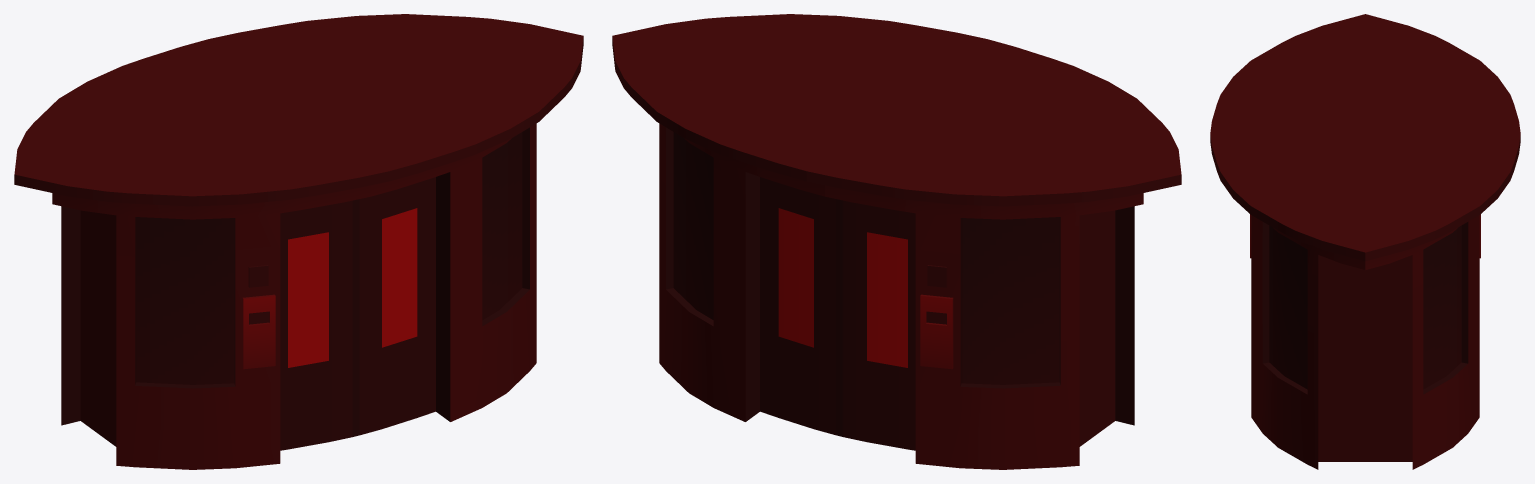
The model's file is PublicToilet.glb.
3 views of the same model, side by side, from view 1: azimuth 30°, elevation 25°; view 2: azimuth 150°, elevation 25°; view 3: azimuth 270°, elevation 25° (orthographic). The views are drawn at different scales.
Visible parts, largest first — view 1: PublicToilet; view 2: PublicToilet; view 3: PublicToilet.
Part boxes in pixels (x1,y1,x2,y2): PublicToilet: (14, 14, 583, 469); PublicToilet: (612, 14, 1181, 469); PublicToilet: (1210, 14, 1520, 469).
Bounding box in the file's own units: 38.34 × 18.62 × 21.07.
